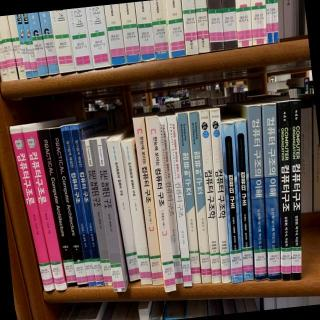book-spine: (21, 123, 67, 292), (9, 124, 55, 292), (37, 128, 77, 288), (49, 127, 88, 288), (69, 124, 105, 287), (60, 125, 96, 287), (146, 117, 176, 292), (93, 138, 126, 292), (133, 117, 163, 285), (105, 140, 140, 281), (81, 139, 113, 287), (120, 140, 152, 285), (166, 116, 192, 286), (188, 111, 212, 283), (177, 113, 201, 284), (159, 116, 182, 284), (199, 110, 221, 284), (247, 105, 268, 281), (210, 108, 231, 283), (221, 122, 243, 283), (262, 104, 281, 281), (234, 119, 254, 281), (279, 101, 291, 280), (290, 100, 301, 280)
